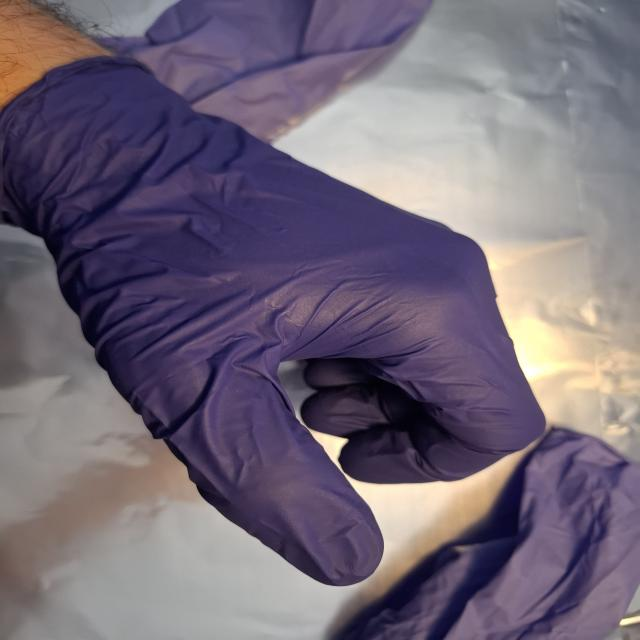glove_on: (0, 51, 553, 592)
